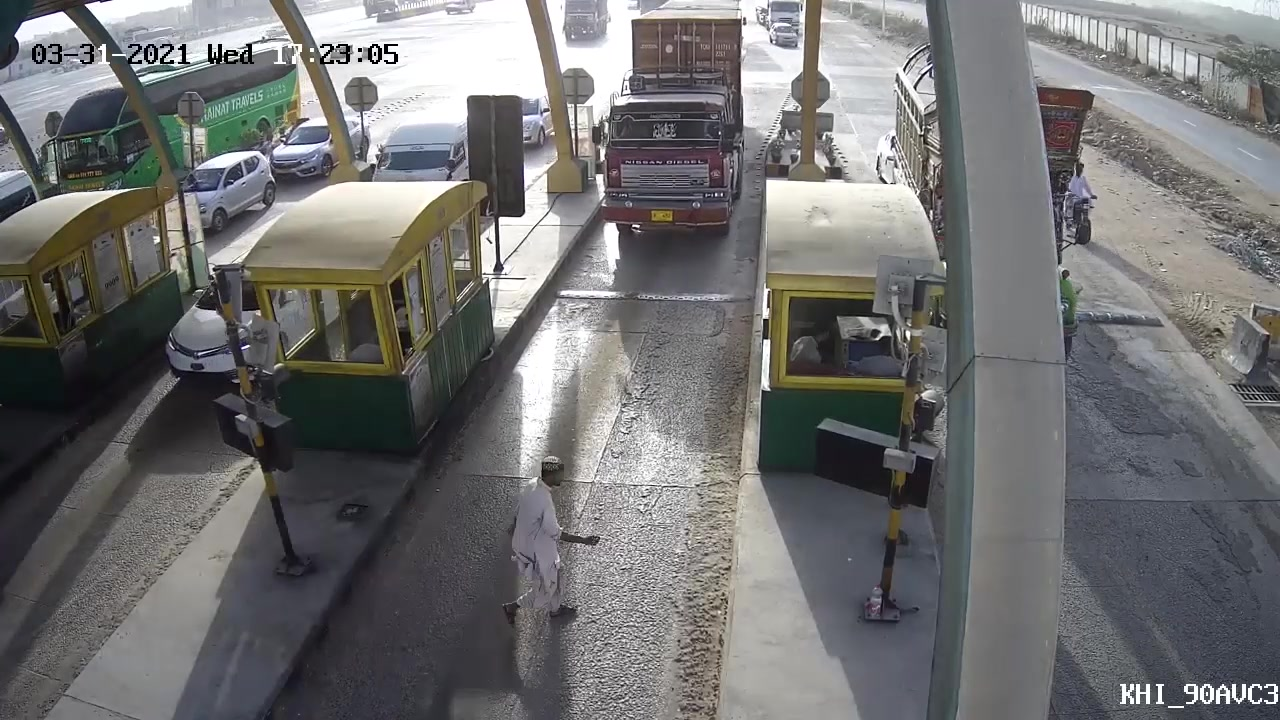F6: (591, 1, 754, 248)
